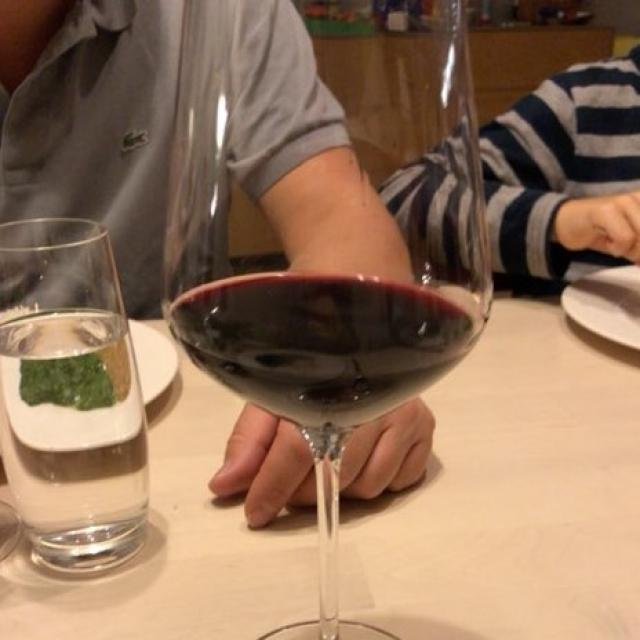wine: (167, 274, 473, 424)
